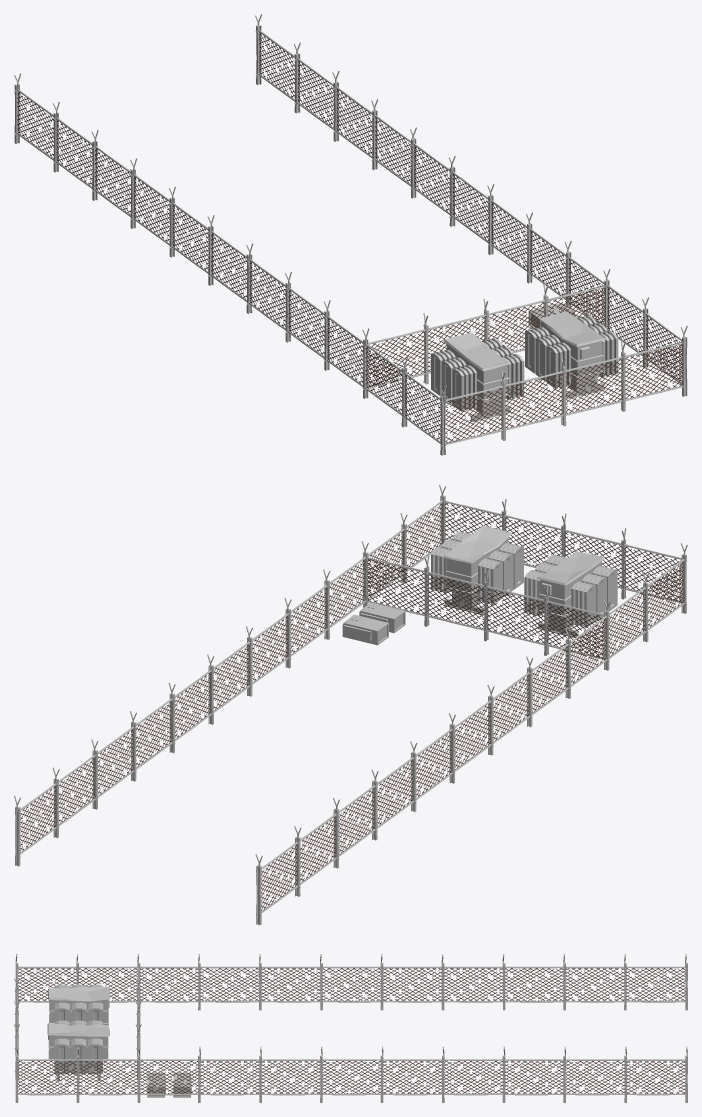
Rendered from SM_Bld_Industrial_Large_01_Attachments_01.fbx.
3 views of the same model, one above another, from view 1: azimuth 30°, elevation 25°; view 2: azimuth 150°, elevation 25°; view 3: azimuth 270°, elevation 25° (orthographic). The views are drawn at different scales.
Parts seen in each view (by area): view 1: SM_Bld_Industrial_Large_01_Attachments_01; view 2: SM_Bld_Industrial_Large_01_Attachments_01; view 3: SM_Bld_Industrial_Large_01_Attachments_01.
Part boxes in pixels (x1,y1,x2,y2): SM_Bld_Industrial_Large_01_Attachments_01: [14, 14, 687, 455]; SM_Bld_Industrial_Large_01_Attachments_01: [14, 485, 687, 925]; SM_Bld_Industrial_Large_01_Attachments_01: [14, 954, 687, 1102].
Size of what is drawn, in the model's own units: 1146 by 305 by 3428.
